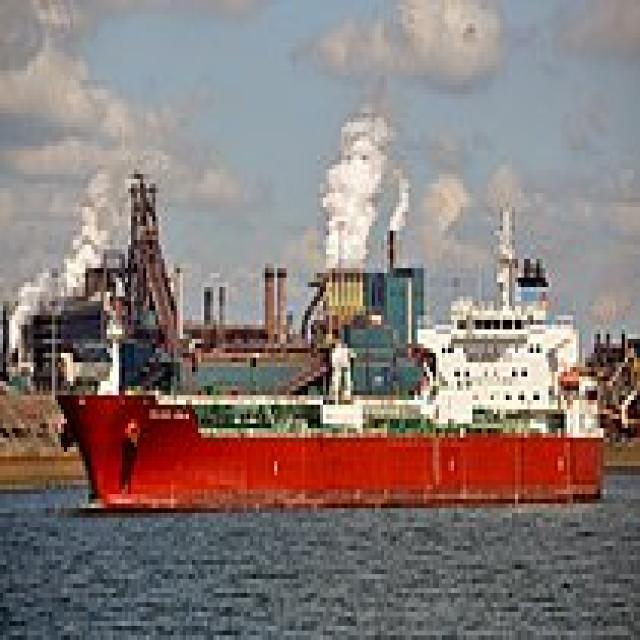Tanker: (52, 202, 606, 508)
